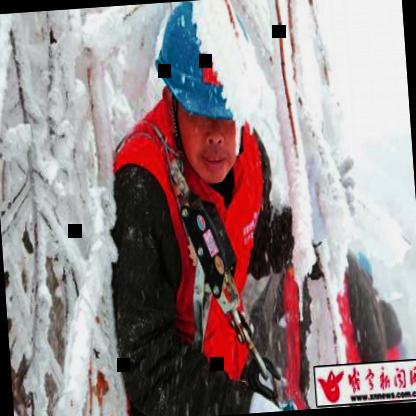helmet: (148, 0, 257, 207)
